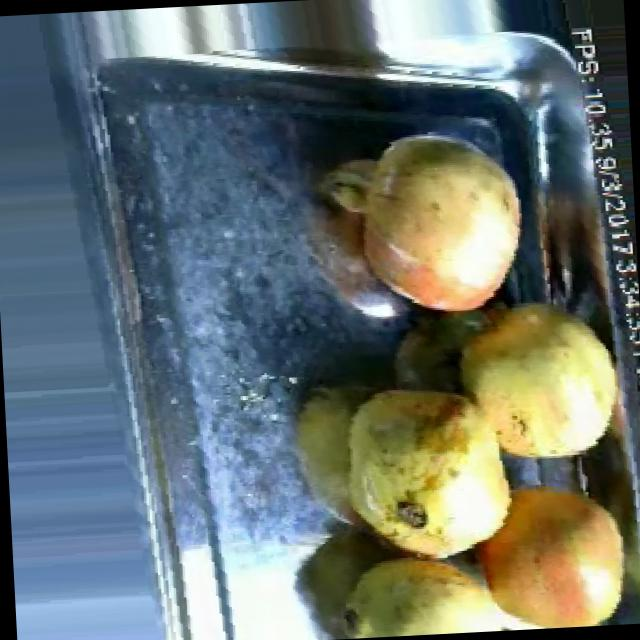fruit: (318, 369, 534, 580), (322, 117, 534, 331), (441, 286, 634, 481), (455, 463, 640, 632)
